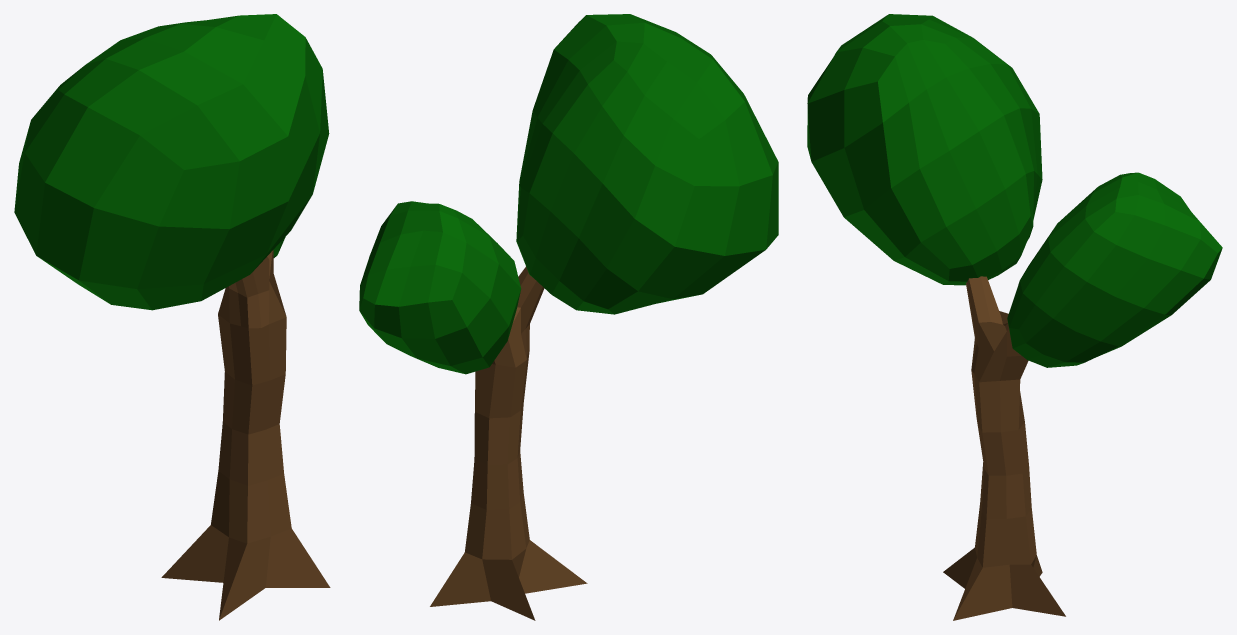
Rendered from Park1_T1.glb.
3 views of the same model, side by side, from view 1: azimuth 30°, elevation 25°; view 2: azimuth 150°, elevation 25°; view 3: azimuth 270°, elevation 25° (orthographic). The views are drawn at different scales.
Parts seen in each view (by area): view 1: Park1-T1; view 2: Park1-T1; view 3: Park1-T1.
Part boxes in pixels (left/top/right/bottom): Park1-T1: left=14, top=14, right=330, bottom=620; Park1-T1: left=359, top=14, right=778, bottom=620; Park1-T1: left=807, top=14, right=1222, bottom=620.
Bounding box in the file's own units: 25.3 × 44.82 × 31.74.
